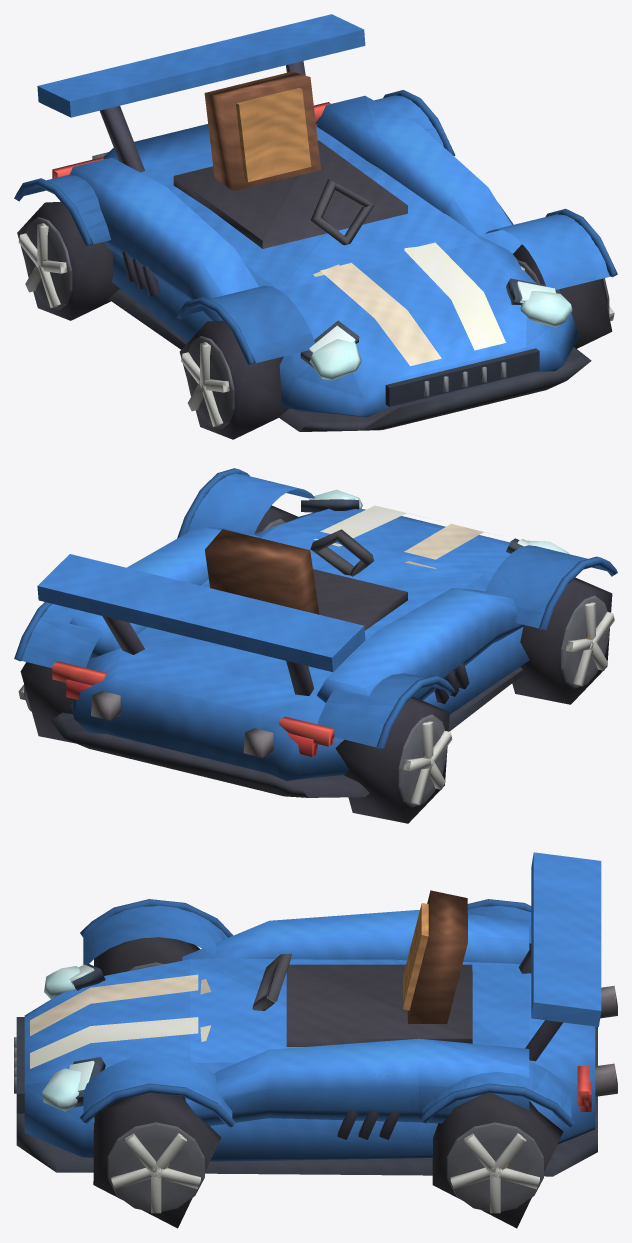
Rendered from kart_azure.glb.
3 renders of one model, top to bottom at view 1: azimuth 30°, elevation 25°; view 2: azimuth 150°, elevation 25°; view 3: azimuth 270°, elevation 25°, orthographic. The views are drawn at different scales.
Visible parts, largest first — view 1: Body, Wheel_L_Front, Wheel_L_Back, Wheel_R_Front; view 2: Body, Wheel_L_Back, Wheel_L_Front, Wheel_R_Back, Wheel_R_Front; view 3: Body, Wheel_R_Front, Wheel_R_Back, Wheel_L_Front.
Boxes of the visible parts, bbox=[...] form: Body: bbox=[14, 14, 617, 431]; Wheel_L_Front: bbox=[179, 320, 289, 439]; Wheel_L_Back: bbox=[17, 201, 120, 320]; Wheel_R_Front: bbox=[513, 244, 614, 348]; Body: bbox=[14, 468, 617, 797]; Wheel_L_Back: bbox=[335, 697, 452, 823]; Wheel_L_Front: bbox=[512, 577, 614, 704]; Wheel_R_Back: bbox=[18, 662, 75, 743]; Wheel_R_Front: bbox=[254, 505, 298, 533]; Body: bbox=[14, 852, 617, 1176]; Wheel_R_Front: bbox=[93, 1093, 221, 1228]; Wheel_R_Back: bbox=[432, 1093, 563, 1228]; Wheel_L_Front: bbox=[94, 937, 200, 975].
Size of the model in its own units: 1.79 by 0.9276 by 2.3.
Materials: 1 (1 with a texture image).
